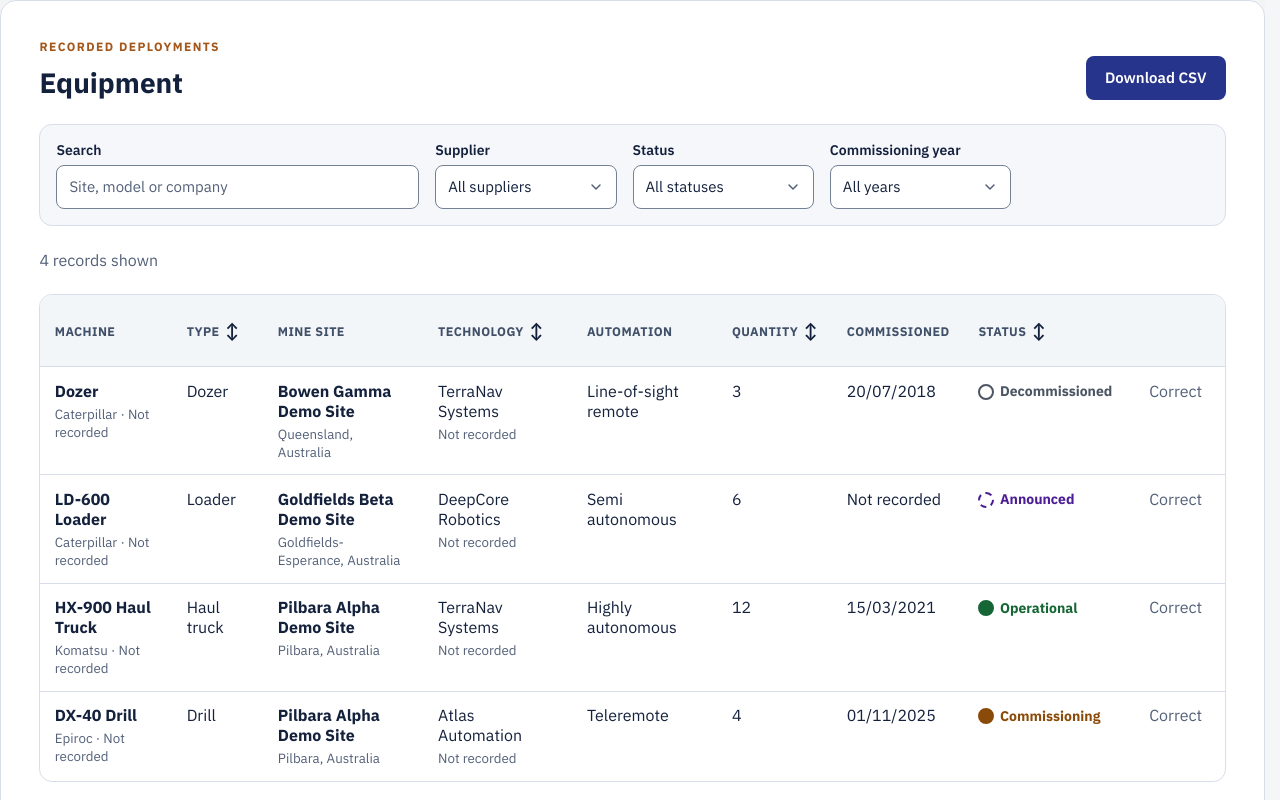
Scenario: EquipmentPage › shows empty state when search has no matches
Type "Definitely Not A Real Equipment Record" into the search field labelled "Search" at (238, 187), box [56, 165, 419, 209]
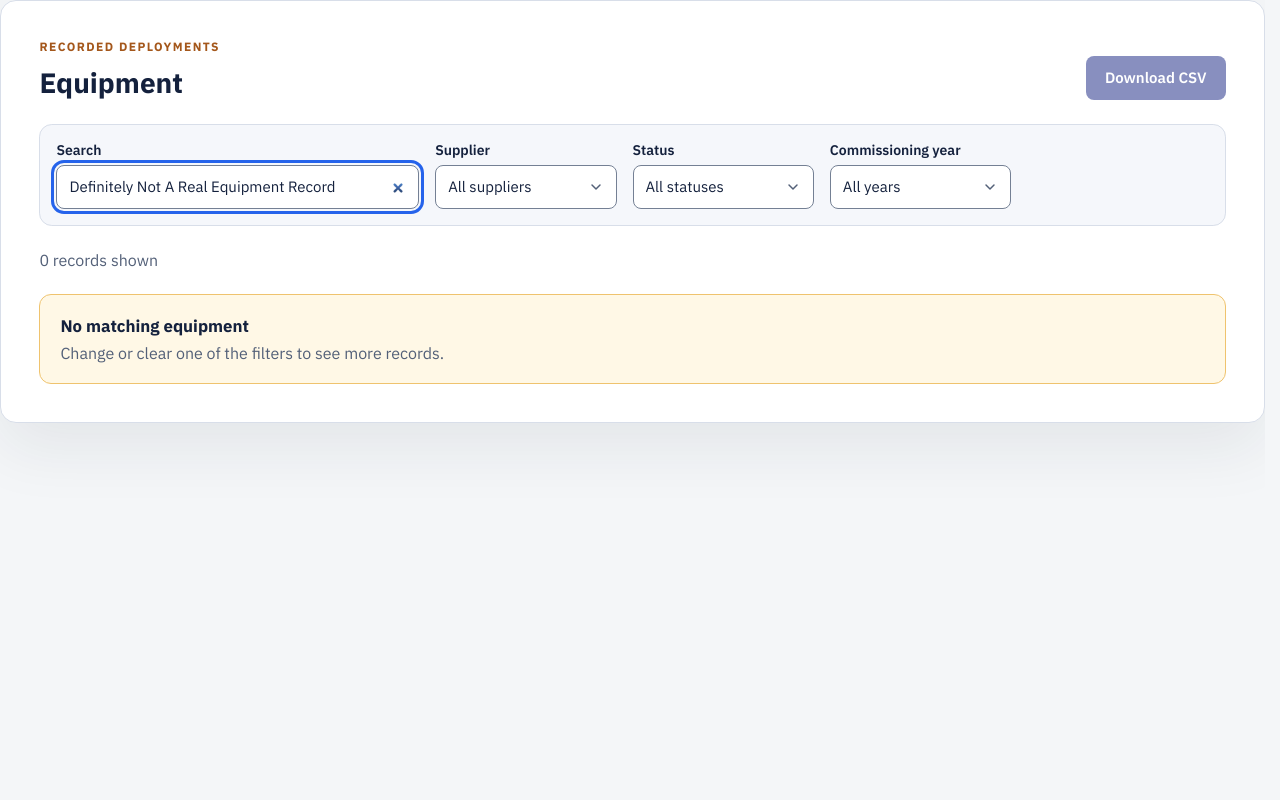
Expected: the text "0 records shown" is shown, [39, 250, 158, 270]
Expected: the heading "No matching equipment" is shown, [60, 315, 249, 337]
Expected: the button named "export csv" is disabled, [1086, 56, 1226, 100]
